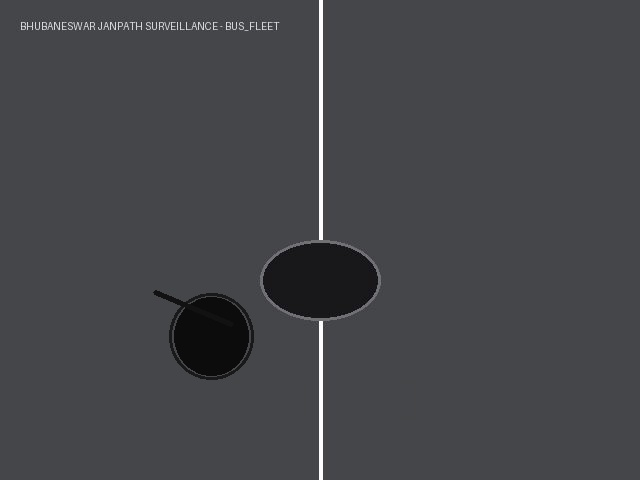crack: (149, 286, 237, 330)
no_zebracrossing: (195, 370, 445, 430)
pothole: (174, 297, 248, 375)
